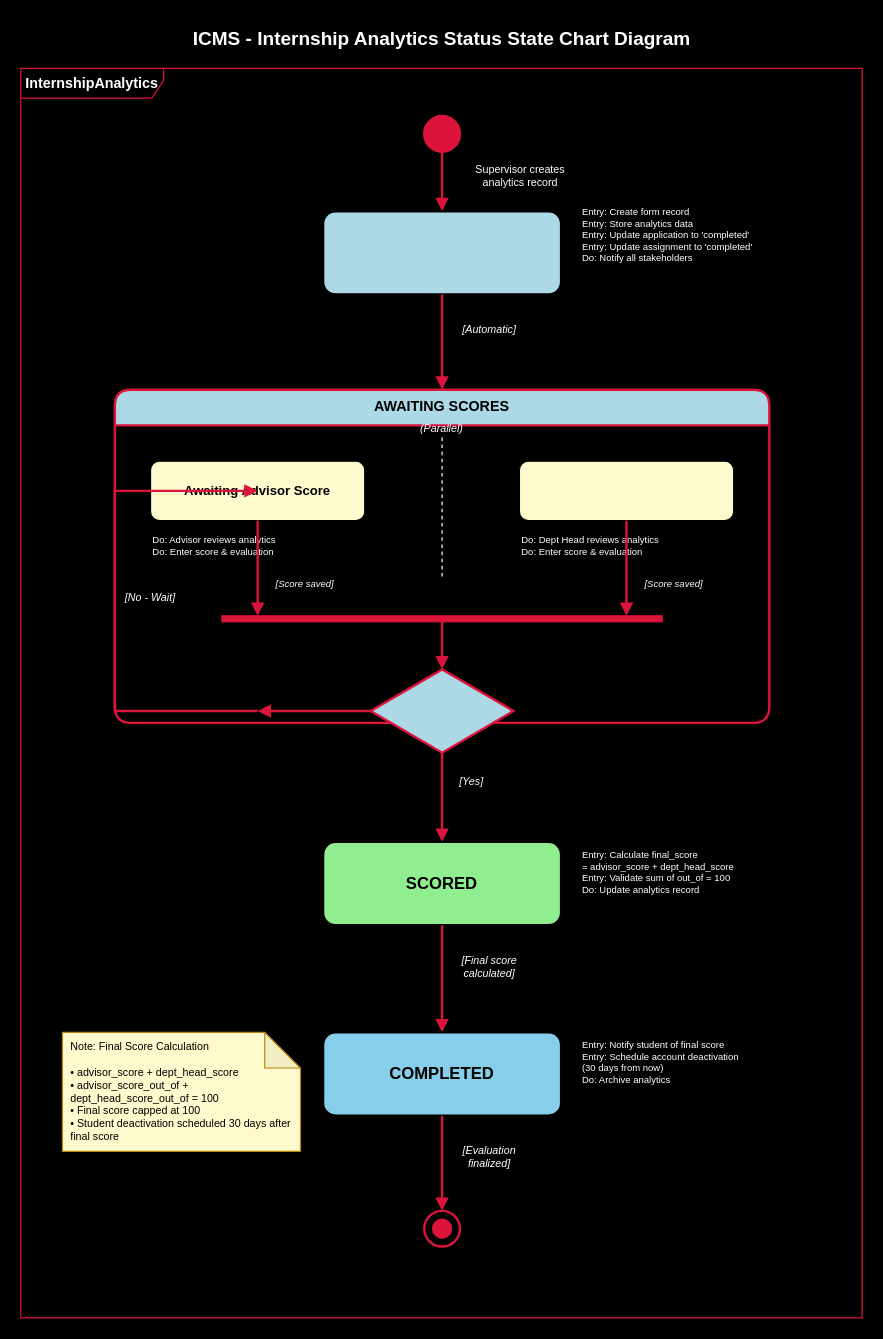
Image size: 883x1339. Some labels were removed from this diagram. Here are the shapes that lost their labels. From the top down, the centre of each, then its label:
[441,252]: SUBMITTED
[626,490]: Awaiting Dept Head Score
[441,710]: Both Scores Set?
